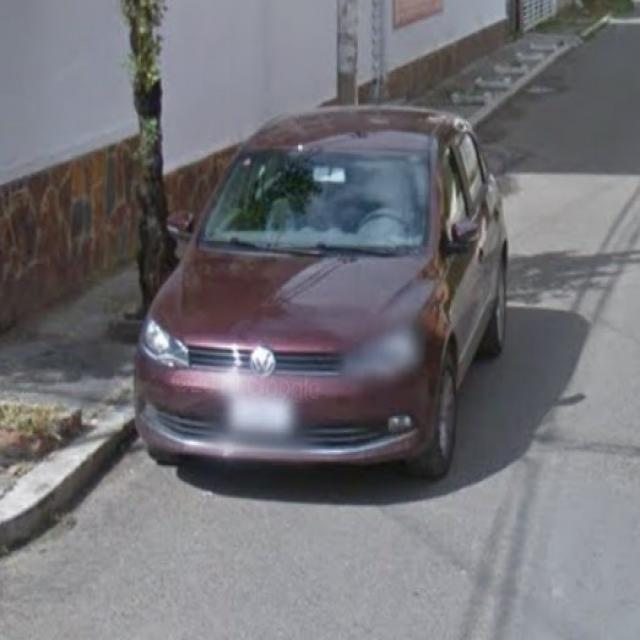cars: (135, 121, 512, 488)
